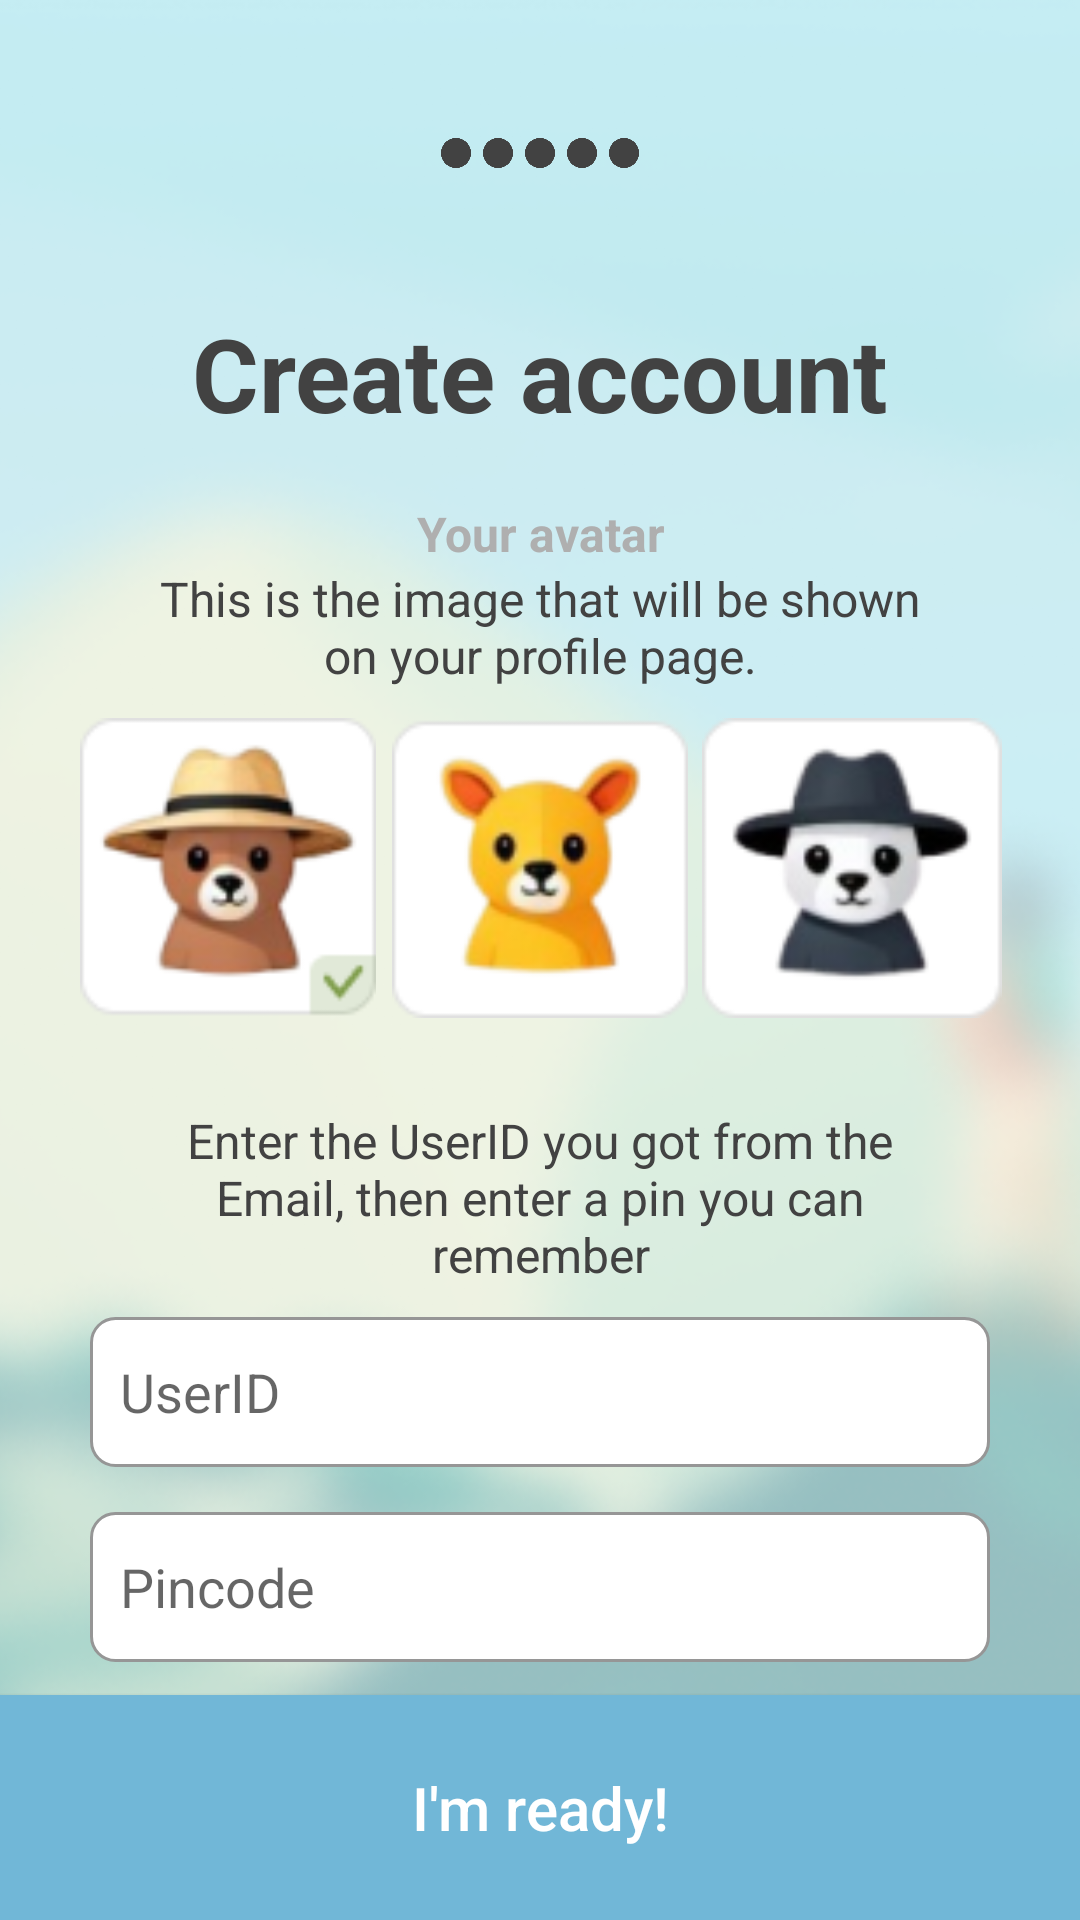

Named icons in this screenshot (1080px×1920px) and their bounding boxes, {"left": x1, "top": y1, "right": x2, "bottom": y2}:
bearchecked: {"left": 84, "top": 723, "right": 376, "bottom": 1014}
panda: {"left": 704, "top": 720, "right": 1002, "bottom": 1018}
